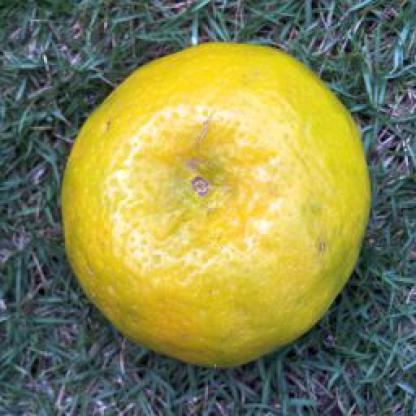orange: (55, 40, 372, 372)
